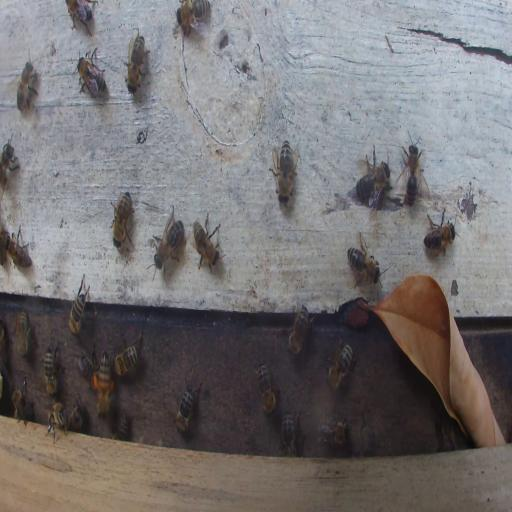nonpollenbee: (396, 132, 429, 207), (354, 148, 392, 210), (151, 205, 185, 273), (346, 232, 381, 287), (192, 212, 222, 274), (271, 140, 296, 202), (324, 340, 355, 390), (68, 272, 92, 336), (76, 49, 107, 98), (423, 211, 456, 257), (286, 303, 314, 356), (126, 29, 148, 94), (174, 381, 202, 432), (3, 227, 33, 272), (110, 191, 134, 247), (114, 332, 141, 379), (16, 57, 38, 114), (256, 361, 279, 415), (318, 409, 349, 447), (176, 0, 210, 33), (65, 0, 94, 33), (11, 382, 32, 424), (46, 401, 67, 443), (0, 135, 18, 183), (44, 344, 59, 397), (280, 411, 297, 457), (16, 310, 30, 358), (66, 398, 84, 432), (437, 422, 456, 451), (76, 352, 94, 380), (116, 412, 130, 440), (1, 318, 8, 369)
pollenbee: (91, 348, 114, 422)
